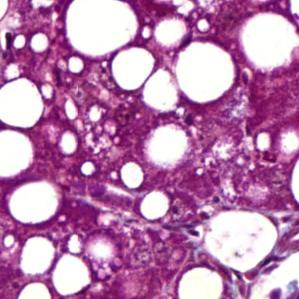steatosis: (110, 45, 159, 88), (137, 191, 175, 220)
